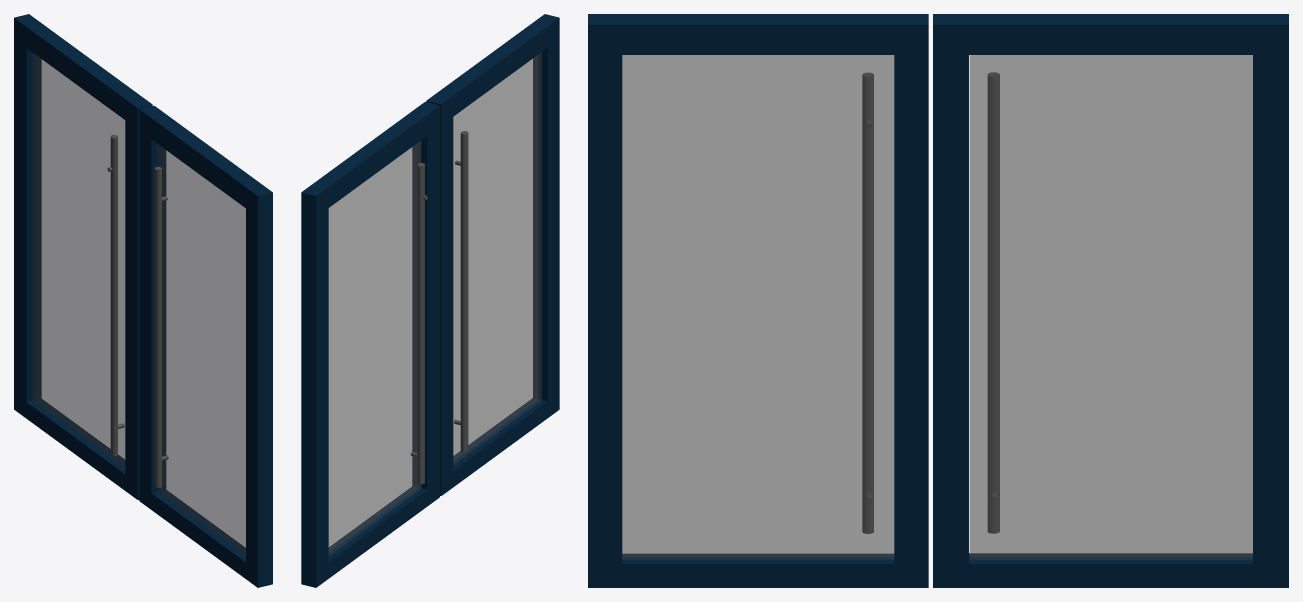
The model's file is teppichladenTuer.dae.
3 views of the same model, side by side, from view 1: azimuth 30°, elevation 25°; view 2: azimuth 150°, elevation 25°; view 3: azimuth 270°, elevation 25° (orthographic). The views are drawn at different scales.
Visible parts, largest first — view 1: pasted__doorInset, pasted__pasted__doorInset, pasted__pasted__door1, pasted__door1, pasted__pasted__pCylinder1, pasted__pCylinder1; view 2: pasted__doorInset, pasted__pasted__doorInset, pasted__door1, pasted__pasted__door1, pasted__pasted__pCylinder1, pasted__pCylinder1; view 3: pasted__doorInset, pasted__pasted__doorInset, pasted__door1, pasted__pasted__door1, pasted__pCylinder1, pasted__pasted__pCylinder1.
Part boxes in pixels (x1,y1,x2,y2): pasted__doorInset: (32,53,125,467); pasted__pasted__doorInset: (157,144,245,556); pasted__pasted__door1: (139,105,272,587); pasted__door1: (14,14,152,499); pasted__pasted__pCylinder1: (154,166,161,487); pasted__pCylinder1: (110,135,117,456); pasted__doorInset: (328,141,421,555); pasted__pasted__doorInset: (453,52,541,464); pasted__door1: (301,102,439,587); pasted__pasted__door1: (426,14,559,495); pasted__pasted__pCylinder1: (460,131,468,452); pasted__pCylinder1: (417,163,424,484); pasted__doorInset: (969,55,1252,559); pasted__pasted__doorInset: (622,55,894,559); pasted__door1: (933,14,1288,587); pasted__pasted__door1: (588,14,928,587); pasted__pCylinder1: (988,72,999,533); pasted__pasted__pCylinder1: (862,73,873,533).
Size of the model in its own units: 0.1486 by 2.41 by 2.72.
